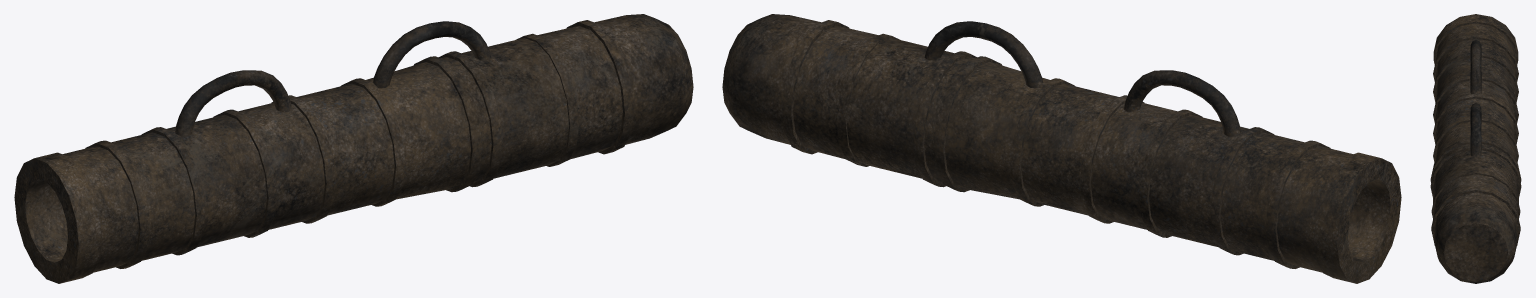
The model's file is SM_Jijachongtong_Gun.fbx.
3 views of the same model, side by side, from view 1: azimuth 30°, elevation 25°; view 2: azimuth 150°, elevation 25°; view 3: azimuth 270°, elevation 25° (orthographic). The views are drawn at different scales.
Visible parts, largest first — view 1: SM_Jijachongtong_Gun; view 2: SM_Jijachongtong_Gun; view 3: SM_Jijachongtong_Gun.
Part boxes in pixels (<box>): SM_Jijachongtong_Gun: <box>14,14,693,283</box>; SM_Jijachongtong_Gun: <box>722,14,1401,283</box>; SM_Jijachongtong_Gun: <box>1430,14,1521,283</box>.
Size of the model in its own units: 89.5 by 17.2 by 22.86.
